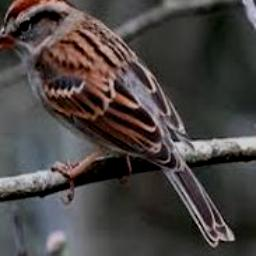Sparrow: (0, 0, 235, 248)
